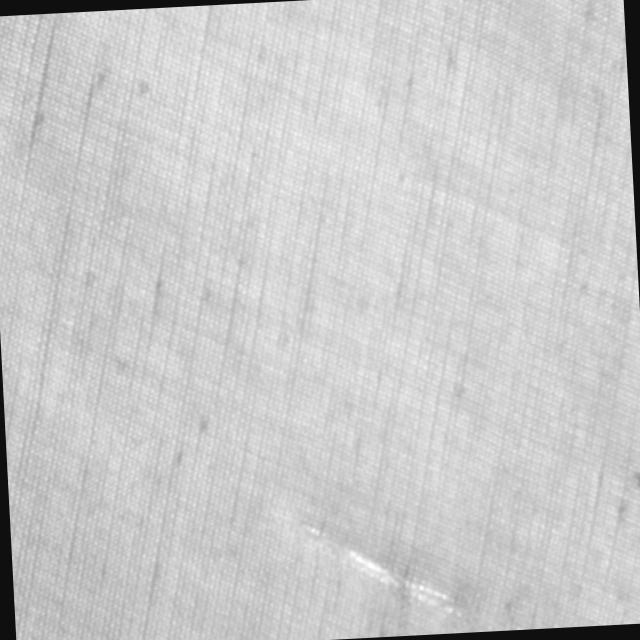thread error: (295, 500, 483, 640)
